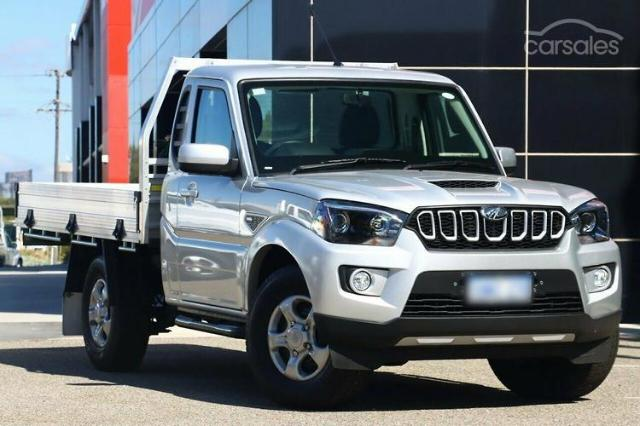pickup-truck: (14, 54, 624, 408)
